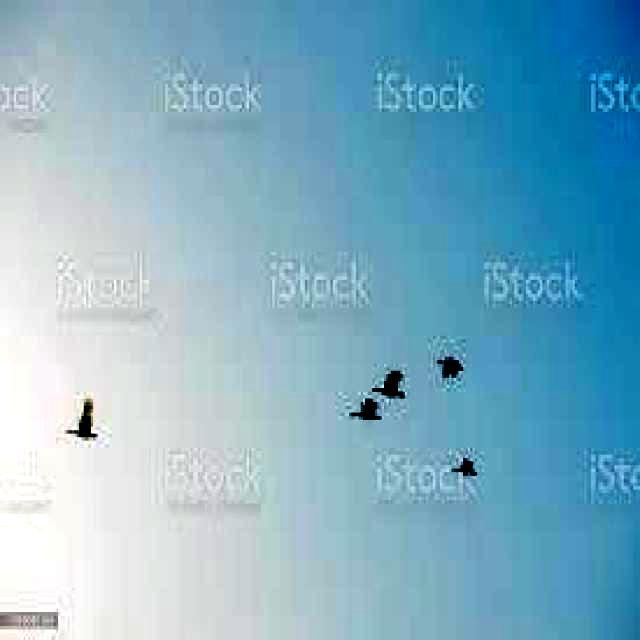bird: (445, 448, 495, 496), (60, 395, 100, 444), (434, 352, 468, 390), (373, 366, 408, 401), (350, 396, 382, 428)
